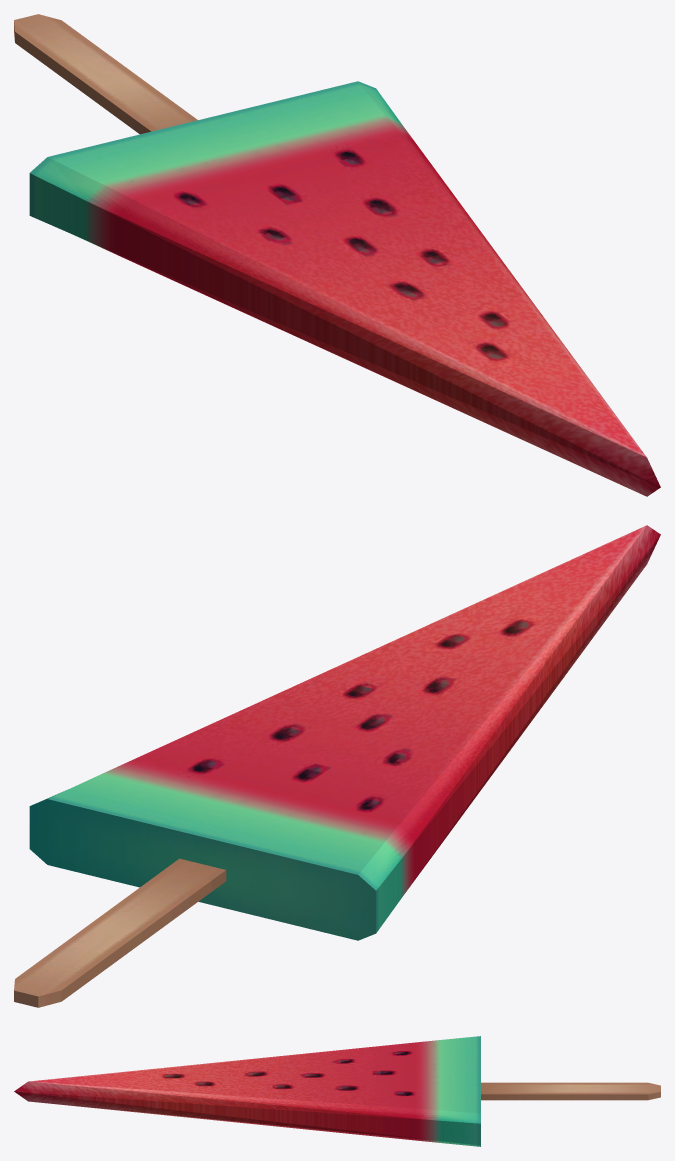
File: Wep.obj
The picture shows the model from 3 angles, top to bottom: view 1: azimuth 30°, elevation 25°; view 2: azimuth 150°, elevation 25°; view 3: azimuth 270°, elevation 25°; orthographic projection. The views are drawn at different scales.
Parts seen in each view (by area): view 1: Mesh_1; view 2: Mesh_1; view 3: Mesh_1.
Boxes of the visible parts, left/top/right/bottom form: Mesh_1: left=14, top=14, right=660, bottom=496; Mesh_1: left=14, top=525, right=660, bottom=1007; Mesh_1: left=14, top=1036, right=660, bottom=1146.
Bounding box in the file's own units: 61.31 × 11.14 × 194.
Materials: 1 (1 with a texture image).
